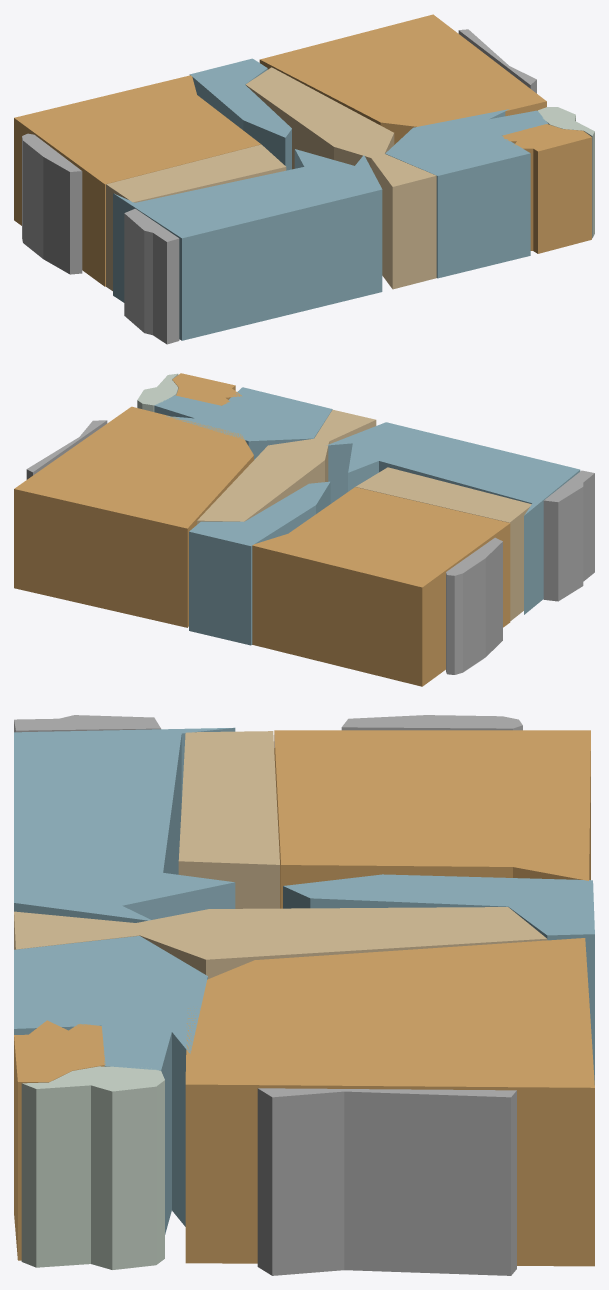
Rendered from Capture d’écran 2025-06-05 224217.obj.
3 views of the same model, one above another, from view 1: azimuth 30°, elevation 25°; view 2: azimuth 150°, elevation 25°; view 3: azimuth 270°, elevation 25° (orthographic). The views are drawn at different scales.
Size of the model in its own units: 11.47 by 2.5 by 7.37.
